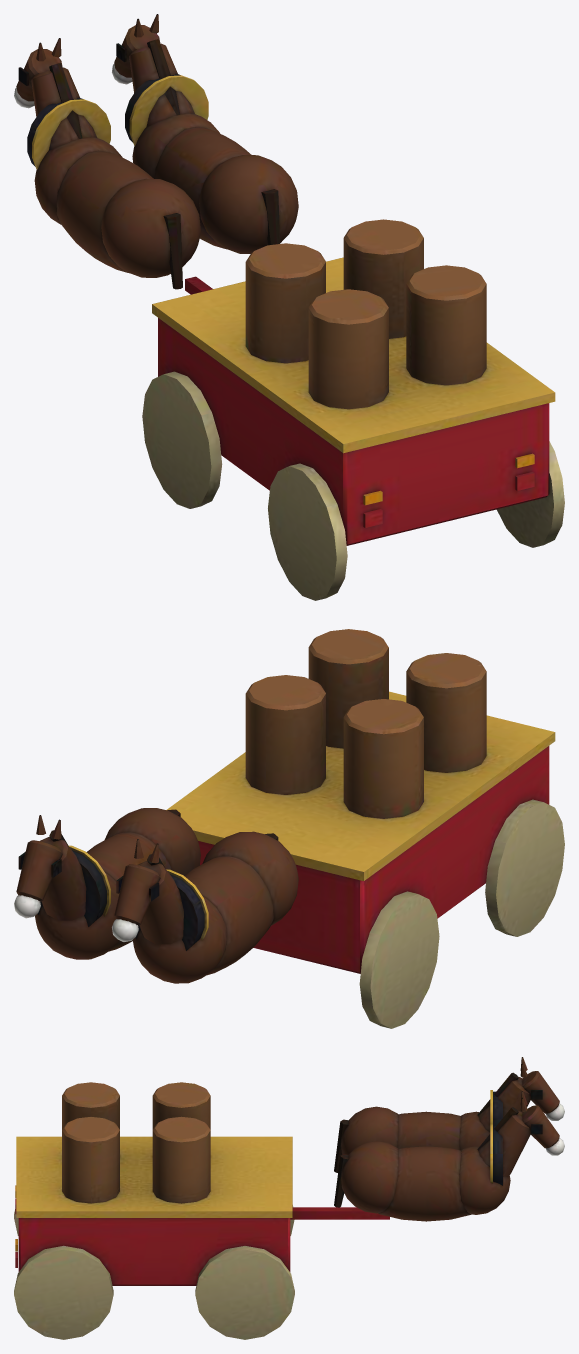
File: carro_clydesdale.glb
3 views of the same model, one above another, from view 1: azimuth 30°, elevation 25°; view 2: azimuth 150°, elevation 25°; view 3: azimuth 270°, elevation 25° (orthographic). The views are drawn at different scales.
Parts seen in each view (by area): view 1: carro_clydesdale; view 2: carro_clydesdale; view 3: carro_clydesdale.
Boxes of the visible parts, left/top/right/bottom form: carro_clydesdale: left=14, top=14, right=564, bottom=600; carro_clydesdale: left=14, top=629, right=564, bottom=1028; carro_clydesdale: left=14, top=1057, right=564, bottom=1339.
Size of the model in its own units: 2.1 by 2.7 by 6.08.
1 material, 1 textured.
